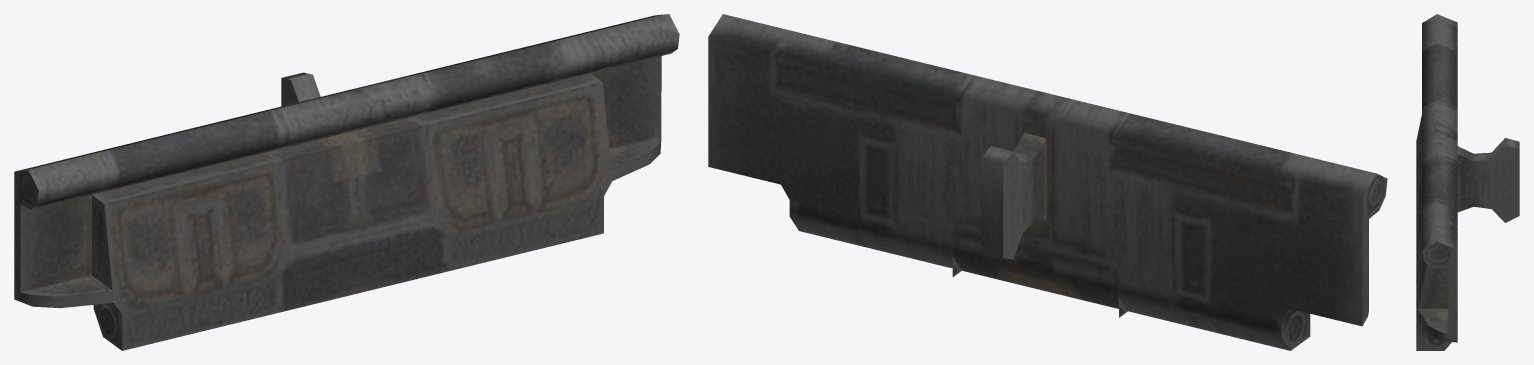
The picture shows the model from 3 angles, left to right: view 1: azimuth 30°, elevation 25°; view 2: azimuth 150°, elevation 25°; view 3: azimuth 270°, elevation 25°; orthographic projection. The views are drawn at different scales.
Visible parts, largest first — view 1: set_0_group_0; view 2: set_0_group_0; view 3: set_0_group_0.
Part boxes in pixels (x1,y1,x2,y2): set_0_group_0: (14,14,679,350); set_0_group_0: (708,14,1387,350); set_0_group_0: (1416,14,1519,350).
Size of the model in its own units: 0.6002 by 0.1697 by 0.1149.
1 material, 1 textured.
